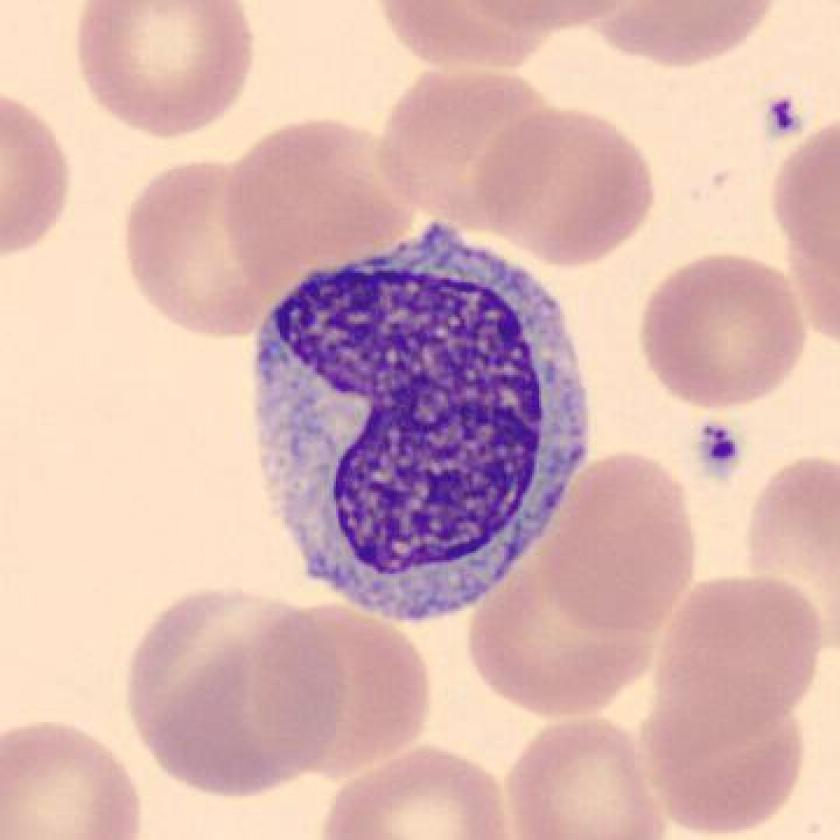monocyte: (228, 205, 613, 640)
